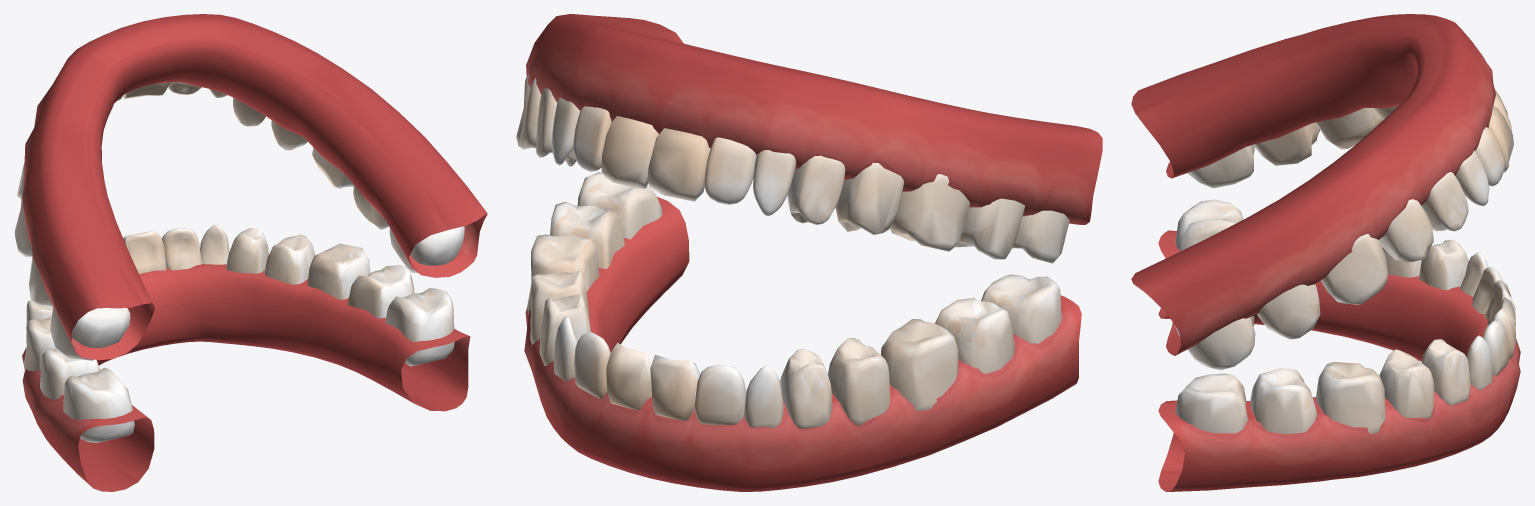
File: BetterTeeth.fbx
The picture shows the model from 3 angles, left to right: view 1: azimuth 30°, elevation 25°; view 2: azimuth 150°, elevation 25°; view 3: azimuth 270°, elevation 25°; orthographic projection. The views are drawn at different scales.
Visible parts, largest first — view 1: Gums_h.001, Gums_h.002, Teeth_l.008, Teeth_l.016, Teeth_h.023, Teeth_l.018, Teeth_l.017, Teeth_l.019, Teeth_h.008, Teeth_l.009, Teeth_l.020, Teeth_l.022 (+9 smaller); view 2: Gums_h.001, Gums_h.002, Teeth_l.010, Teeth_h.021, Teeth_l.009, Teeth_l.011, Teeth_l.008, Teeth_h.016, Teeth_h.020, Teeth_l.012, Teeth_h.015, Teeth_h.019 (+19 smaller); view 3: Gums_h.001, Gums_h.002, Teeth_l.018, Teeth_l.016, Teeth_l.017, Teeth_h.010, Teeth_l.019, Teeth_h.009, Teeth_h.008, Teeth_h.011, Teeth_l.020, Teeth_l.008 (+15 smaller).
Boxes of the visible parts, bbox=[...] form: Gums_h.001: bbox=[22, 14, 487, 359]; Gums_h.002: bbox=[22, 264, 470, 491]; Teeth_l.008: bbox=[63, 367, 134, 442]; Teeth_l.016: bbox=[385, 288, 454, 366]; Teeth_h.023: bbox=[50, 307, 130, 360]; Teeth_l.018: bbox=[307, 243, 370, 299]; Teeth_l.017: bbox=[347, 265, 414, 318]; Teeth_l.019: bbox=[264, 234, 315, 284]; Teeth_h.008: bbox=[389, 226, 464, 272]; Teeth_l.009: bbox=[40, 348, 99, 399]; Teeth_l.020: bbox=[226, 228, 268, 273]; Teeth_l.022: bbox=[162, 228, 201, 270]; Gums_h.001: bbox=[526, 14, 1102, 224]; Gums_h.002: bbox=[524, 197, 1081, 491]; Teeth_l.010: bbox=[880, 319, 958, 410]; Teeth_h.021: bbox=[890, 174, 969, 251]; Teeth_l.009: bbox=[935, 297, 1014, 373]; Teeth_l.011: bbox=[828, 338, 889, 425]; Teeth_l.008: bbox=[981, 274, 1061, 343]; Teeth_h.016: bbox=[647, 128, 710, 201]; Teeth_h.020: bbox=[835, 162, 903, 234]; Teeth_l.012: bbox=[780, 349, 832, 428]; Teeth_h.015: bbox=[601, 116, 658, 188]; Teeth_h.019: bbox=[787, 155, 845, 224]; Gums_h.001: bbox=[1131, 14, 1495, 355]; Gums_h.002: bbox=[1158, 230, 1520, 491]; Teeth_l.018: bbox=[1316, 362, 1385, 433]; Teeth_l.016: bbox=[1175, 373, 1247, 433]; Teeth_l.017: bbox=[1250, 368, 1316, 434]; Teeth_h.010: bbox=[1321, 234, 1387, 304]; Teeth_l.019: bbox=[1379, 349, 1434, 418]; Teeth_h.009: bbox=[1257, 284, 1320, 339]; Teeth_h.008: bbox=[1174, 315, 1255, 369]; Teeth_h.011: bbox=[1378, 199, 1433, 261]; Teeth_l.020: bbox=[1421, 339, 1470, 405]; Teeth_l.008: bbox=[1175, 199, 1243, 251].
Size of the model in its own units: 235 by 182 by 180.
